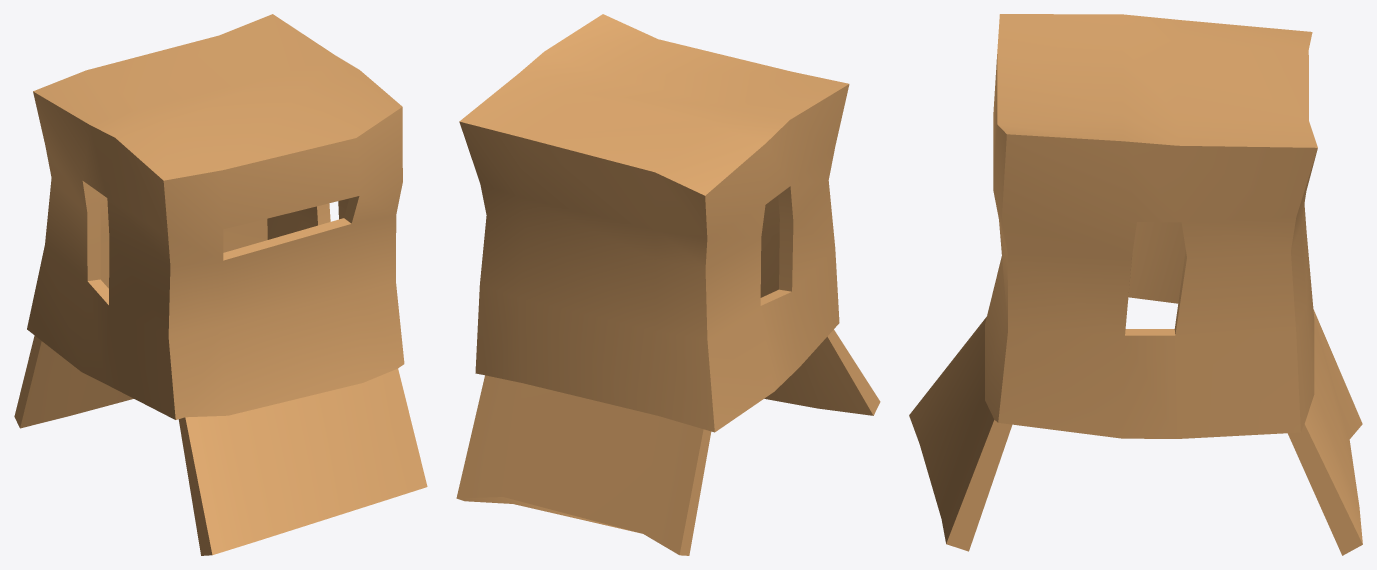
Rendered from BoxHat.fbx.
3 renders of one model, left to right at view 1: azimuth 30°, elevation 25°; view 2: azimuth 150°, elevation 25°; view 3: azimuth 270°, elevation 25°, orthographic. The views are drawn at different scales.
Visible parts, largest first — view 1: Cube; view 2: Cube; view 3: Cube.
Part boxes in pixels (bbox=[...]): Cube: bbox=[14, 14, 427, 555]; Cube: bbox=[456, 14, 880, 555]; Cube: bbox=[909, 14, 1362, 555].
Size of the model in its own units: 1.71 by 2.42 by 2.33.
